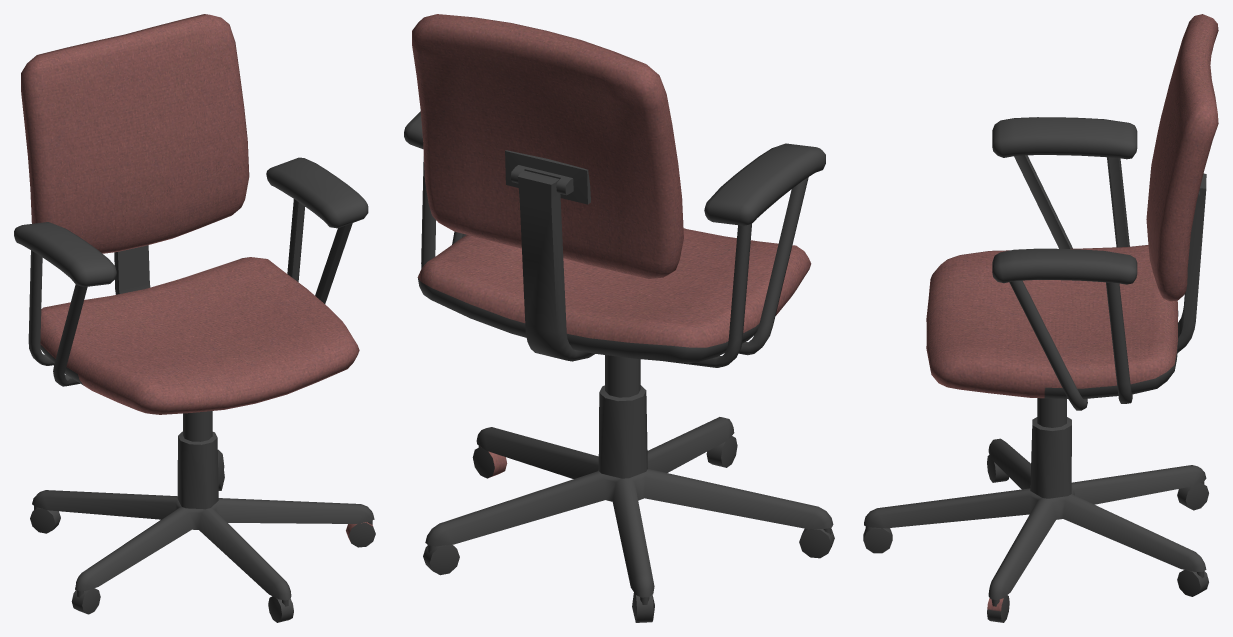
The model's file is chairtled.glb.
3 views of the same model, side by side, from view 1: azimuth 30°, elevation 25°; view 2: azimuth 150°, elevation 25°; view 3: azimuth 270°, elevation 25° (orthographic). The views are drawn at different scales.
Parts seen in each view (by area): view 1: Cylinder.001; view 2: Cylinder.001; view 3: Cylinder.001.
Part boxes in pixels (left/top/right/bottom): Cylinder.001: left=14, top=14, right=375, bottom=622; Cylinder.001: left=404, top=14, right=834, bottom=622; Cylinder.001: left=863, top=14, right=1218, bottom=622.
Size of the model in its own units: 1.75 by 2.63 by 1.71.
Materials: 1 (1 with a texture image).
